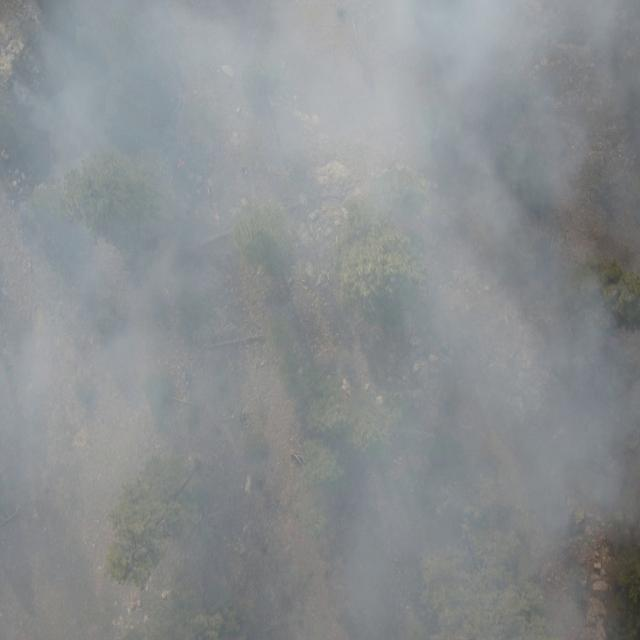fire: (174, 155, 187, 169)
smoke: (0, 0, 640, 640)
